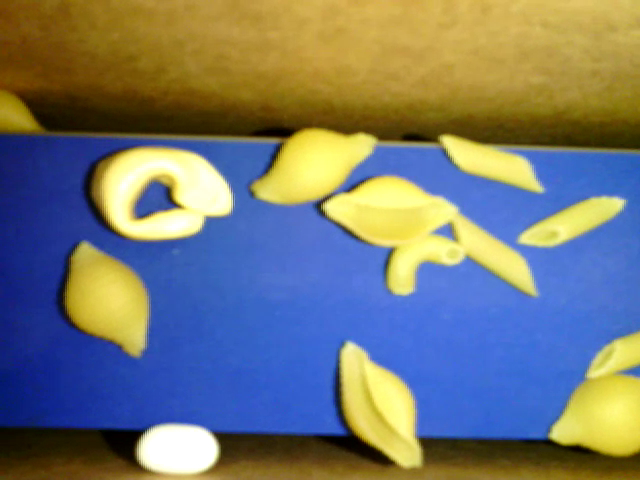elbow: (389, 232, 470, 301)
penne: (448, 206, 542, 298), (439, 128, 543, 195), (515, 193, 628, 246), (587, 328, 639, 377)
shell: (335, 336, 427, 471), (240, 123, 378, 208), (316, 171, 457, 250), (59, 237, 148, 359), (545, 372, 639, 459), (1, 89, 47, 135)
tortellini: (87, 144, 233, 240)
